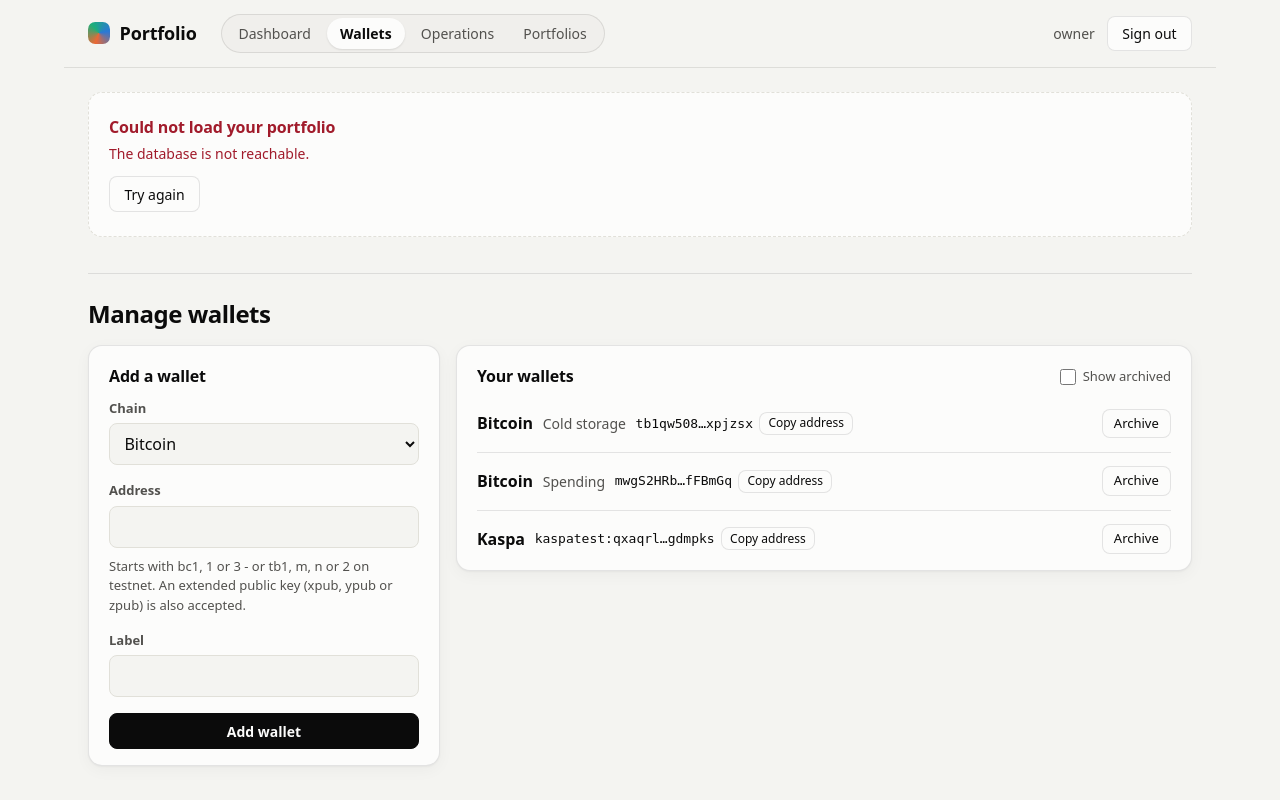
Scenario: WalletsPage balances: states › a failed balances read is the whole-page failure, with a retry
expect the heading "Could not load your portfolio" is shown: met, box top-left (109, 116), bottom-right (335, 138)
expect the message shows "The database is not reachable.": met, box top-left (109, 144), bottom-right (309, 163)
Click the button "Try again" at (154, 194), box top-left (109, 176), bottom-right (200, 212)
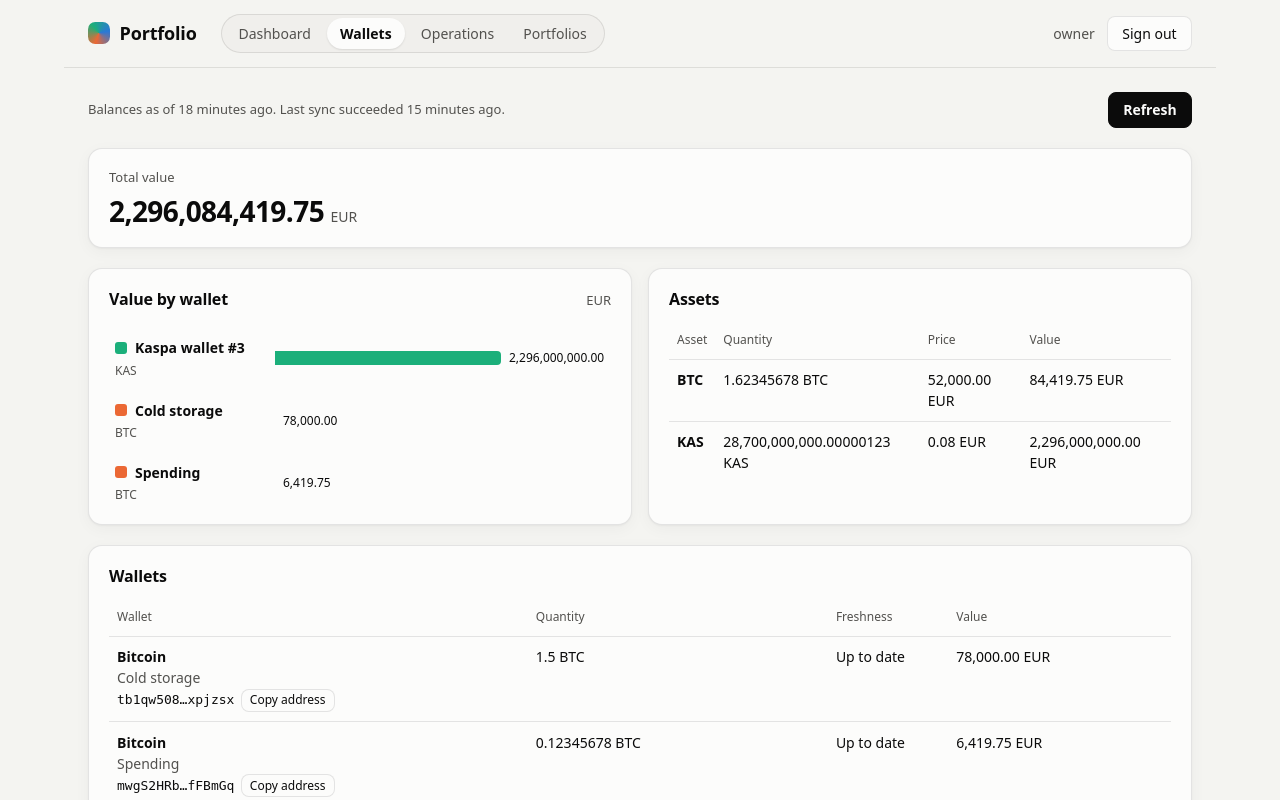
expect the message "Could not load your portfolio The database is not reachable. Try again" is gone: met
